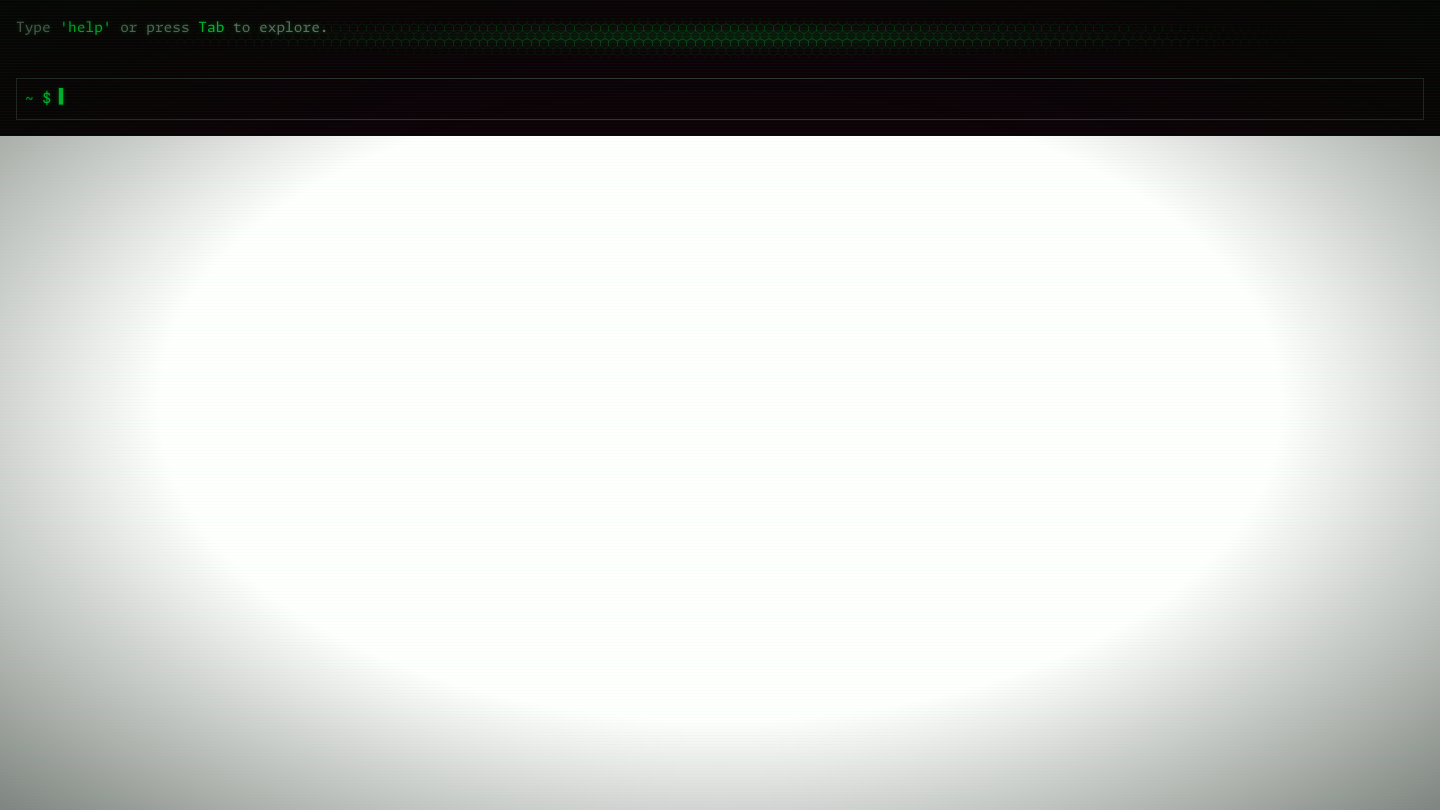
Scenario: Terminal › shows error for invalid theme
Type "theme invalid" into the field at (737, 100), box left=59, top=90, right=1415, bottom=110
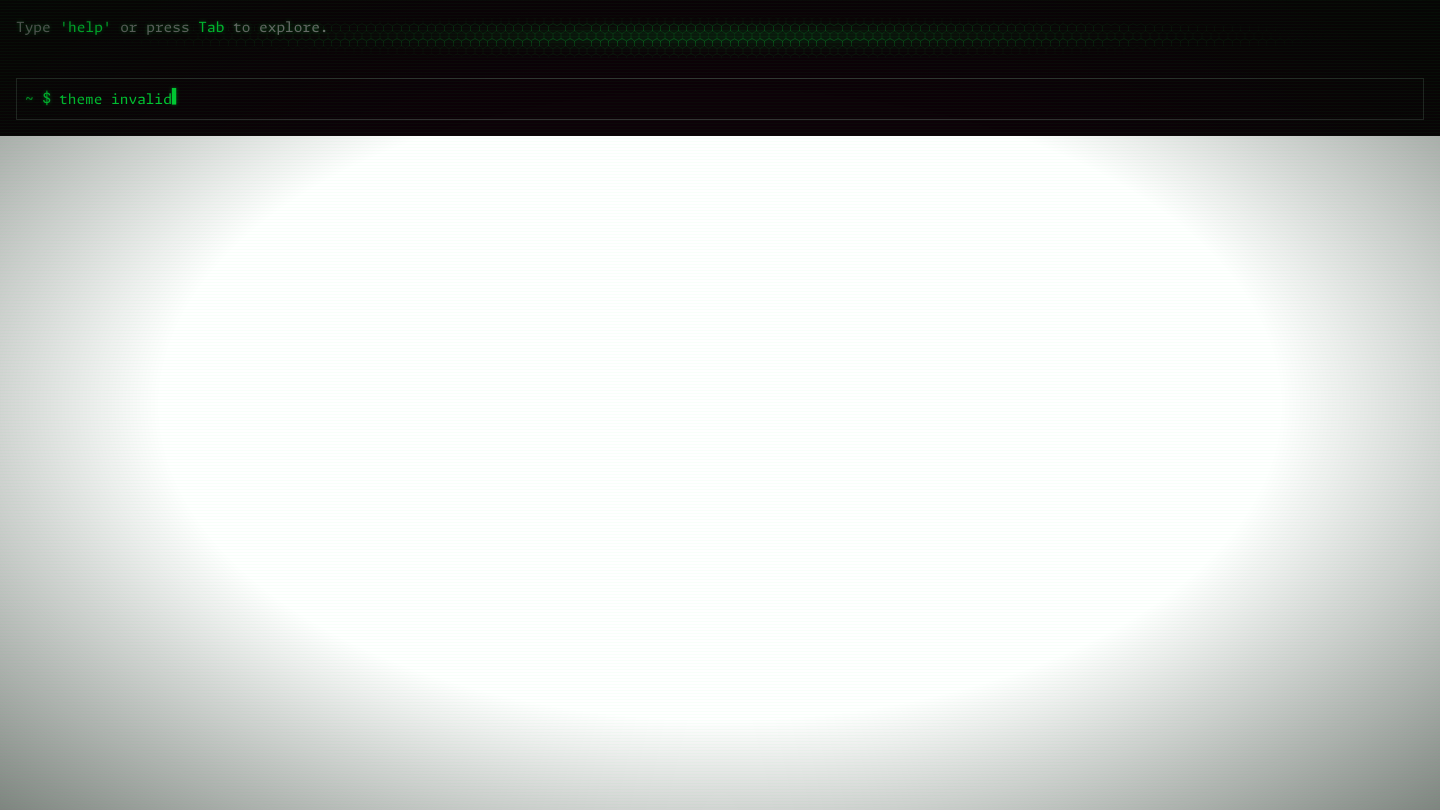
Press Enter in the field, box left=59, top=90, right=1415, bottom=110
Wait 600 ms
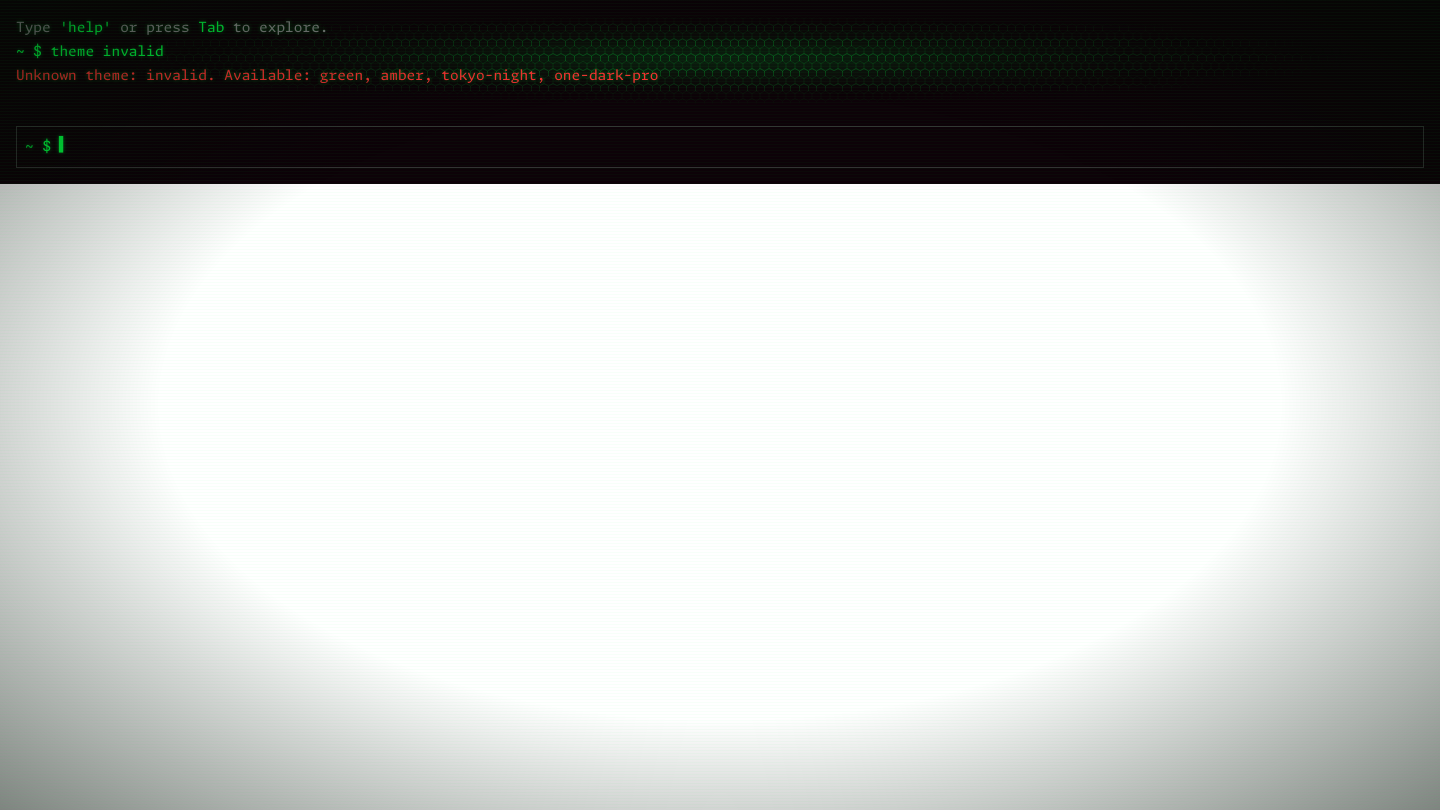
Result: the text "Unknown theme: invalid" is shown at left=16, top=69, right=658, bottom=83
